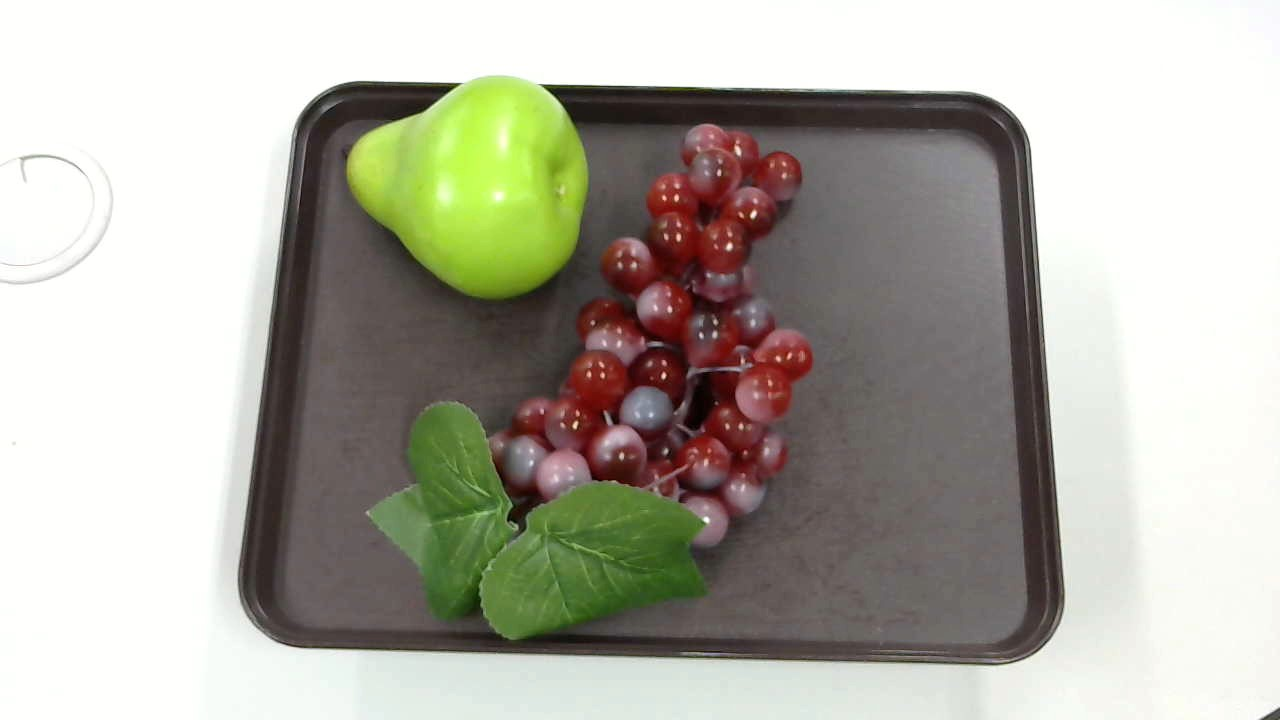grape: (364, 122, 820, 632)
green pear: (339, 76, 583, 302)
